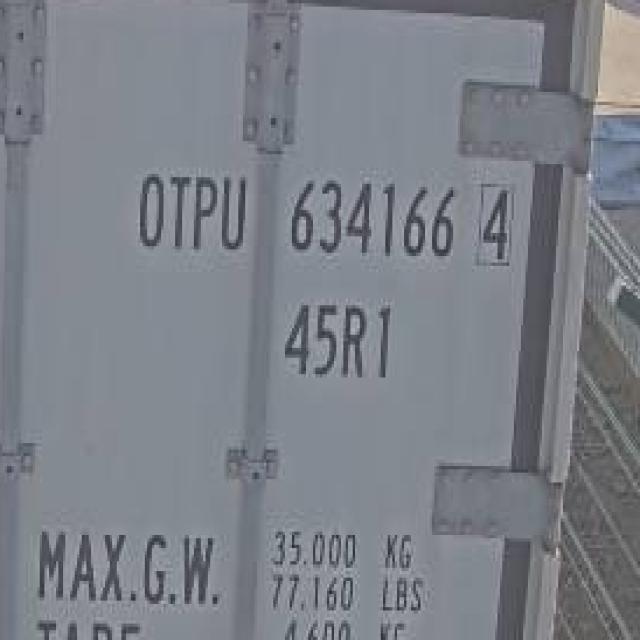dv: (475, 176, 520, 270)
owner: (132, 160, 250, 260)
serial: (288, 168, 457, 266)
size: (278, 288, 395, 384)
